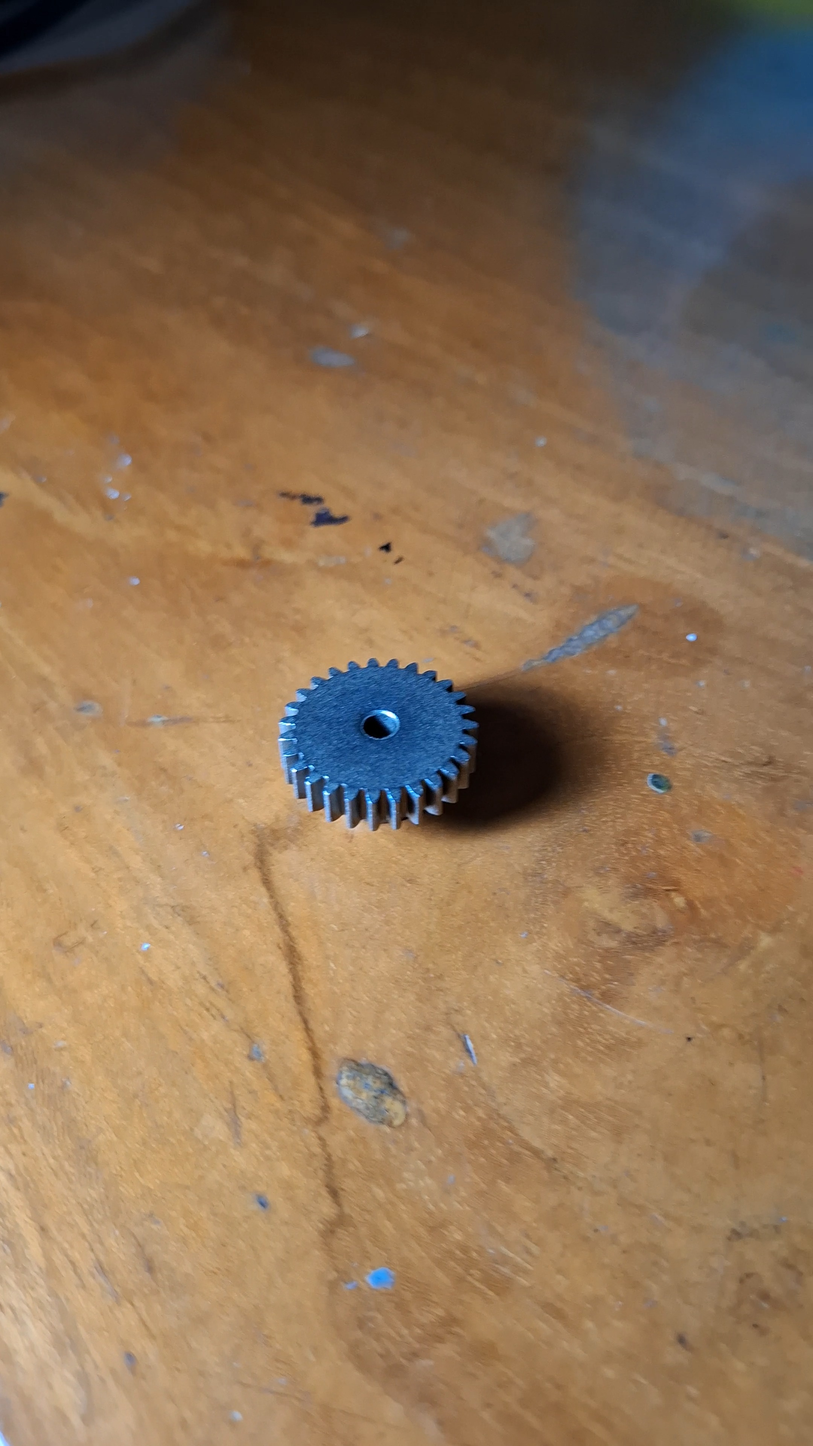spur gear: (280, 659, 477, 830)
